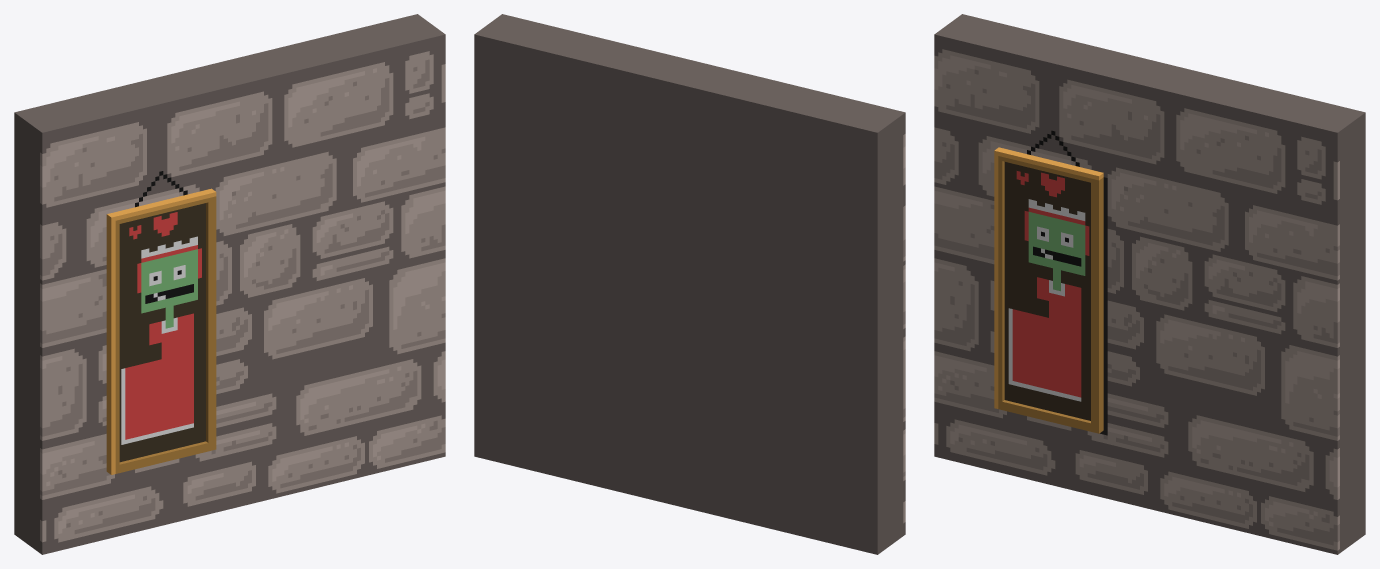
Rendered from GGJ walls 1.2.obj.
3 views of the same model, side by side, from view 1: azimuth 30°, elevation 25°; view 2: azimuth 150°, elevation 25°; view 3: azimuth 330°, elevation 25° (orthographic).
Bounding box in the file's own units: 10 × 10 × 1.4.
Materials: 1 (1 with a texture image).
